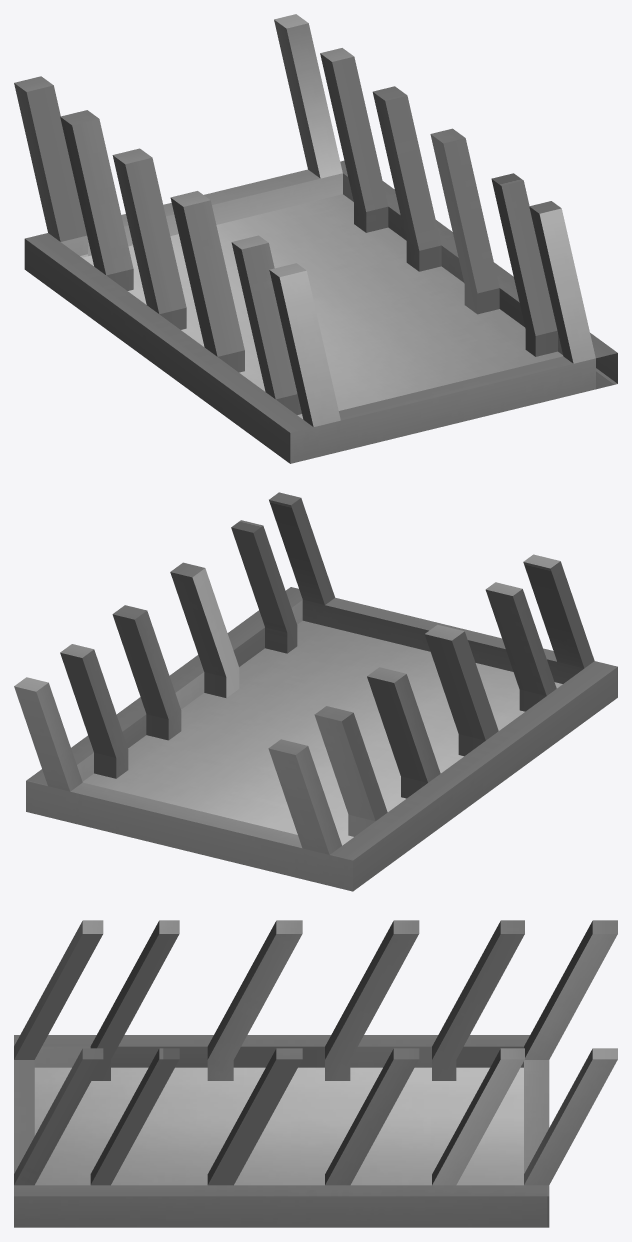
The model's file is suszarka do naczyn.glb.
3 renders of one model, top to bottom at view 1: azimuth 30°, elevation 25°; view 2: azimuth 150°, elevation 25°; view 3: azimuth 270°, elevation 25°, orthographic.
Visible parts, largest first — view 1: Cube.003; view 2: Cube.003; view 3: Cube.003.
Boxes of the visible parts, x1=… form: Cube.003: x1=14, y1=14, x2=617, y2=463; Cube.003: x1=14, y1=492, x2=617, y2=891; Cube.003: x1=14, y1=920, x2=617, y2=1227.
Bounding box in the file's own units: 0.5625 × 0.256 × 0.8908.
1 material, 1 textured.
